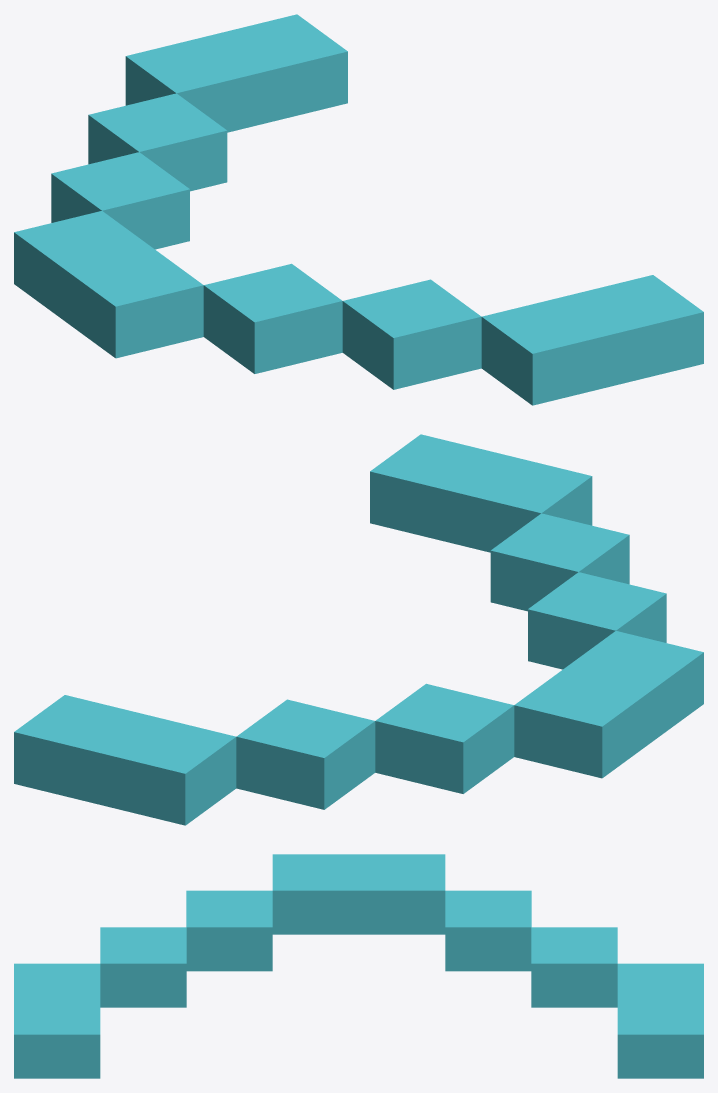
The model's file is 回旋镖.fbx.
3 renders of one model, top to bottom at view 1: azimuth 30°, elevation 25°; view 2: azimuth 150°, elevation 25°; view 3: azimuth 270°, elevation 25°, orthographic. The views are drawn at different scales.
Visible parts, largest first — view 1: Cube; view 2: Cube; view 3: Cube.
Boxes of the visible parts, x1,y1,x2,y2 form: Cube: (14,14,703,405); Cube: (14,434,703,825); Cube: (14,854,703,1078).
Bounding box in the file's own units: 124 × 14.05 × 200.
